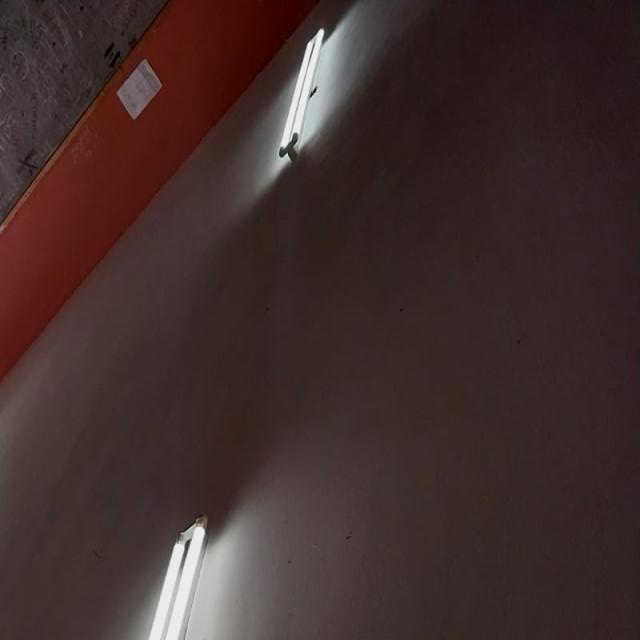fluorescent tube: (0, 482, 231, 640), (258, 5, 346, 171)
